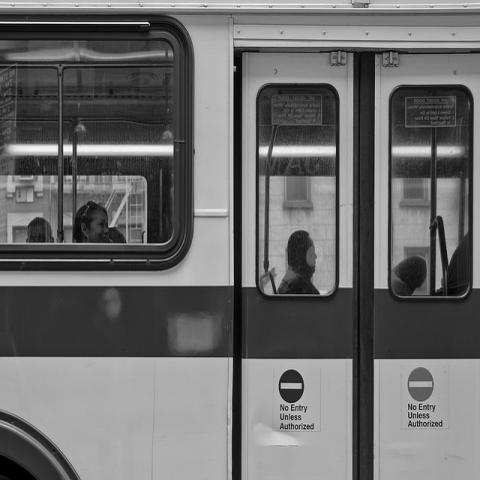bus: (2, 2, 480, 474)
